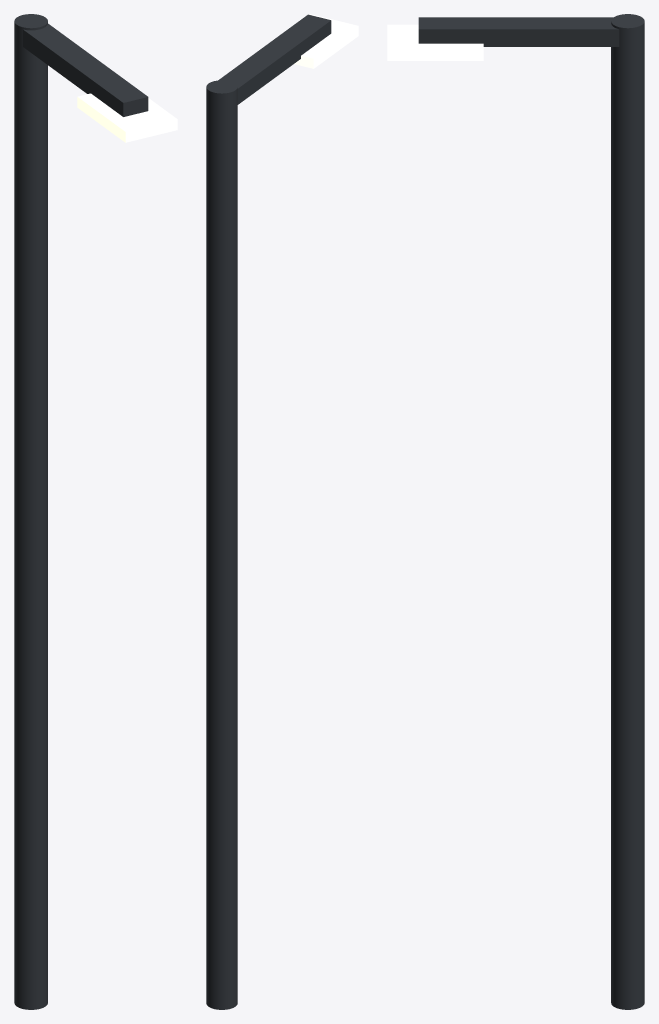
Rendered from lamp_post.glb.
The picture shows the model from 3 angles, left to right: view 1: azimuth 30°, elevation 25°; view 2: azimuth 150°, elevation 25°; view 3: azimuth 270°, elevation 25°; orthographic projection. The views are drawn at different scales.
Parts seen in each view (by area): view 1: post, bulb; view 2: post, bulb; view 3: post, bulb.
Boxes of the visible parts, x1,y1,x2,y2 form: post: (14, 14, 148, 1009); bulb: (77, 93, 177, 142); post: (206, 14, 331, 1009); bulb: (294, 14, 358, 68); post: (418, 14, 644, 1009); bulb: (387, 24, 483, 60).
Bounding box in the file's own units: 0.25 × 4.5 × 1.07.
